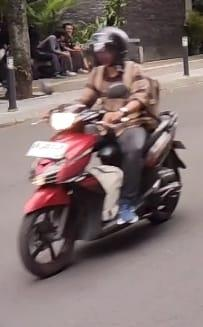helm: (88, 25, 130, 69)
riding: (17, 25, 188, 279)
